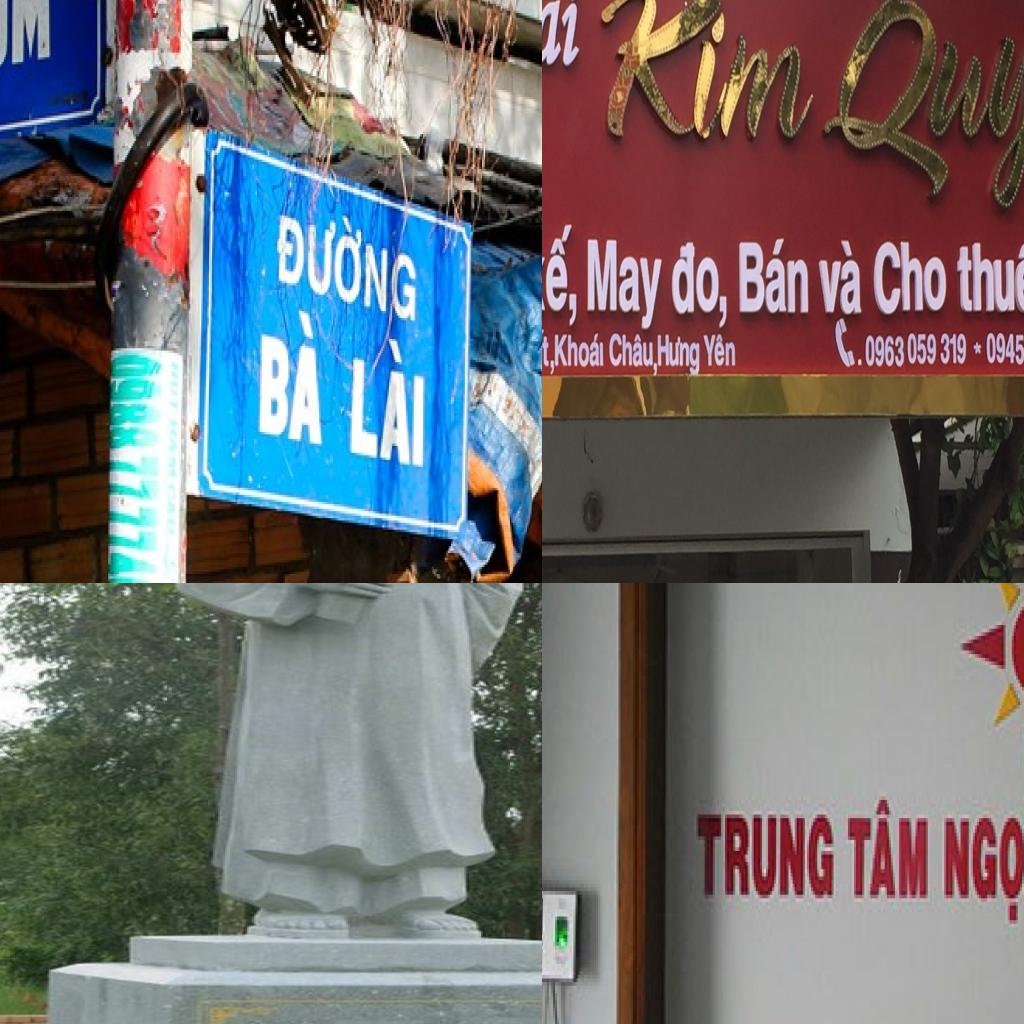text: (815, 0, 1024, 223), (585, 0, 819, 151), (274, 197, 422, 330), (694, 811, 838, 905), (108, 355, 164, 583), (350, 325, 428, 472), (258, 297, 327, 453), (842, 796, 930, 910), (944, 814, 1024, 931), (584, 235, 672, 333), (736, 231, 810, 320), (870, 241, 948, 320), (668, 239, 731, 331), (953, 239, 1024, 320), (542, 217, 579, 334), (0, 0, 53, 80), (864, 330, 967, 370), (815, 239, 865, 318), (542, 0, 584, 74), (608, 332, 658, 378), (553, 330, 606, 368), (658, 333, 700, 376), (985, 332, 1024, 367), (703, 332, 736, 369), (870, 564, 904, 583), (542, 326, 555, 375)
